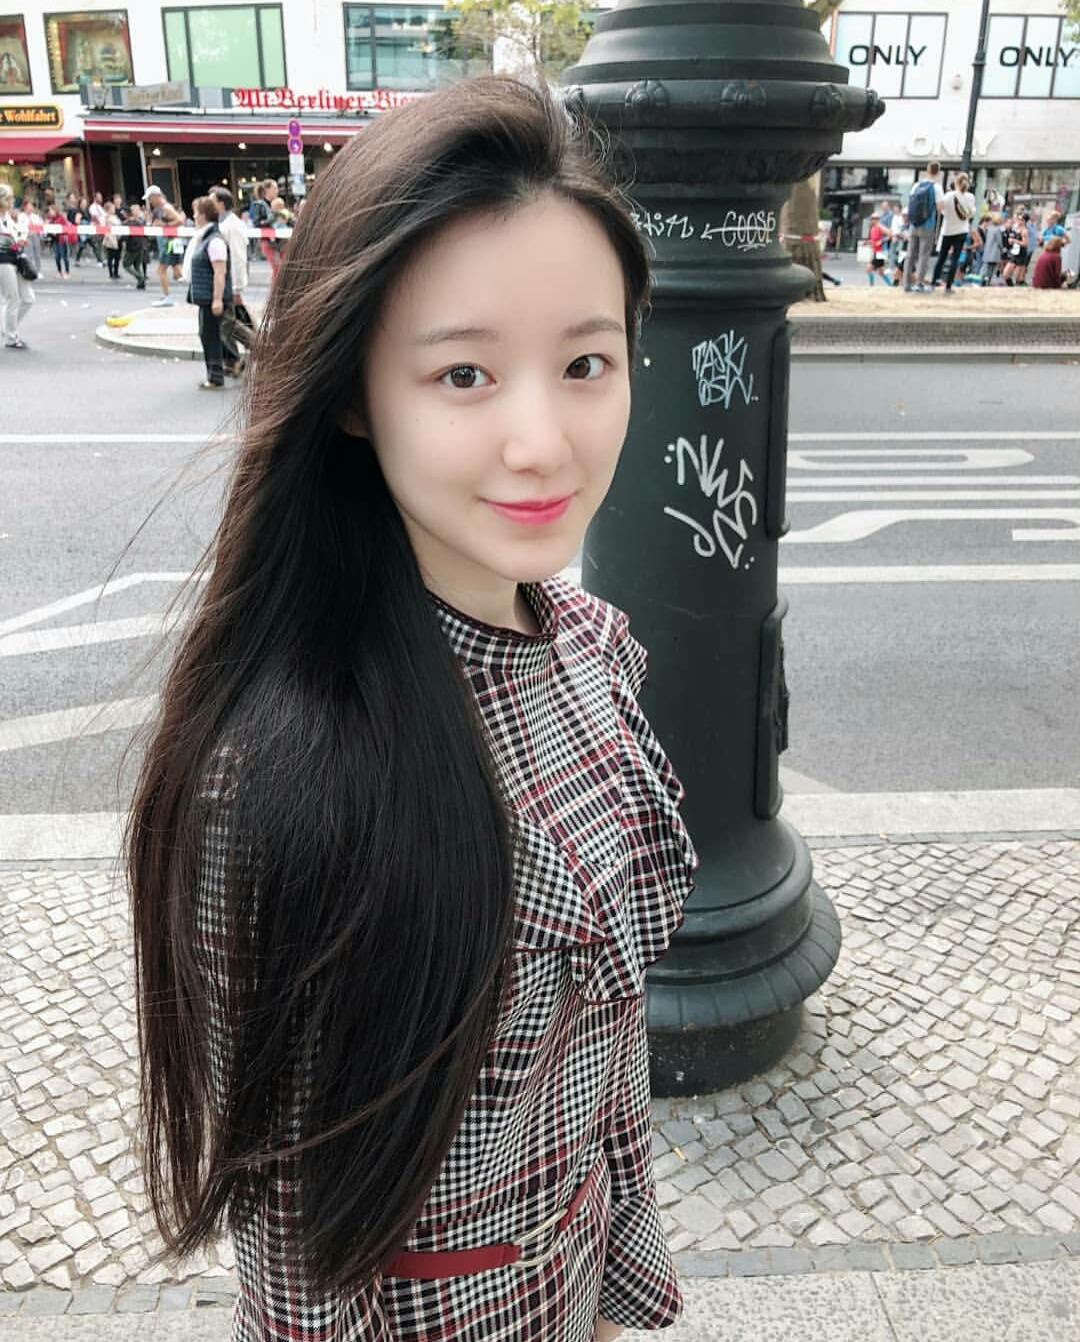people: (179, 86, 702, 1342), (179, 199, 232, 386), (211, 189, 255, 321), (932, 157, 972, 280), (4, 195, 32, 348), (906, 155, 930, 278)
